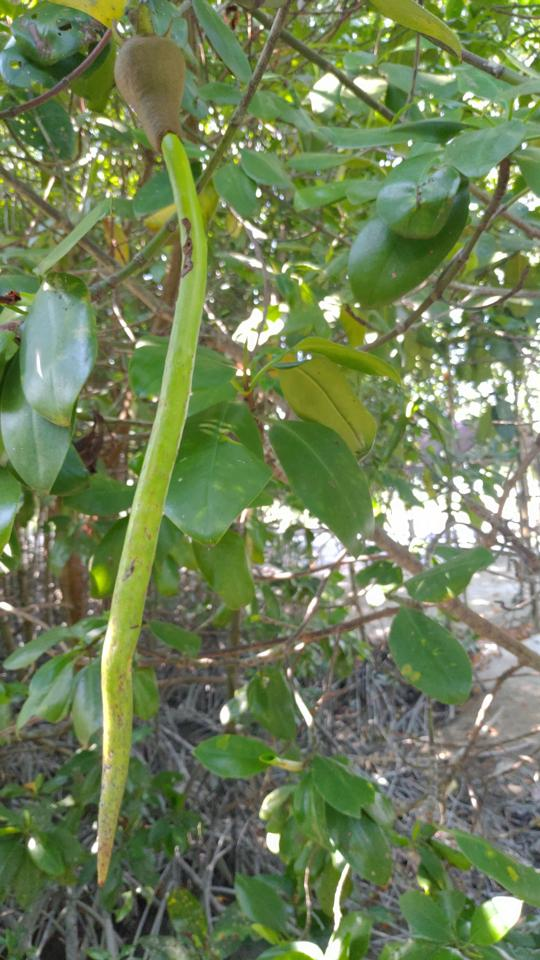mentah: (75, 23, 216, 892)
